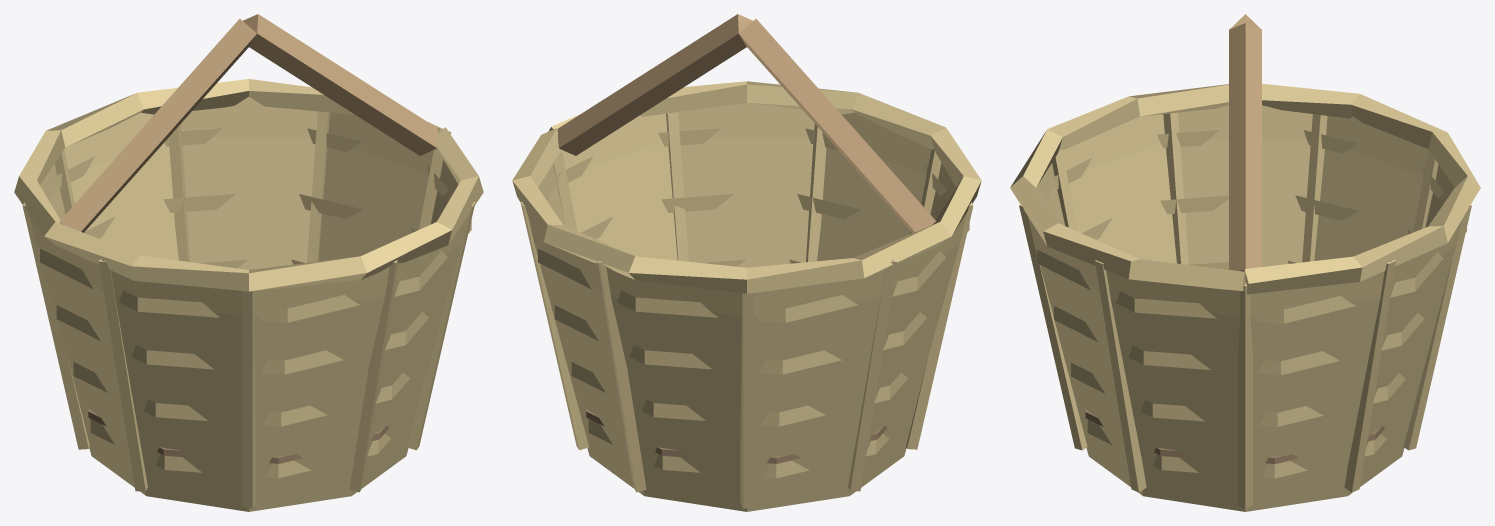
File: item_039_basket_s.glb
The picture shows the model from 3 angles, left to right: view 1: azimuth 30°, elevation 25°; view 2: azimuth 150°, elevation 25°; view 3: azimuth 270°, elevation 25°; orthographic projection.
Visible parts, largest first — view 1: item_039_basket_s; view 2: item_039_basket_s; view 3: item_039_basket_s.
Part boxes in pixels (x1,y1,x2,y2): item_039_basket_s: (14, 14, 483, 511); item_039_basket_s: (512, 14, 981, 511); item_039_basket_s: (1010, 14, 1480, 511).
Size of the model in its own units: 0.4312 by 0.4315 by 0.432.
